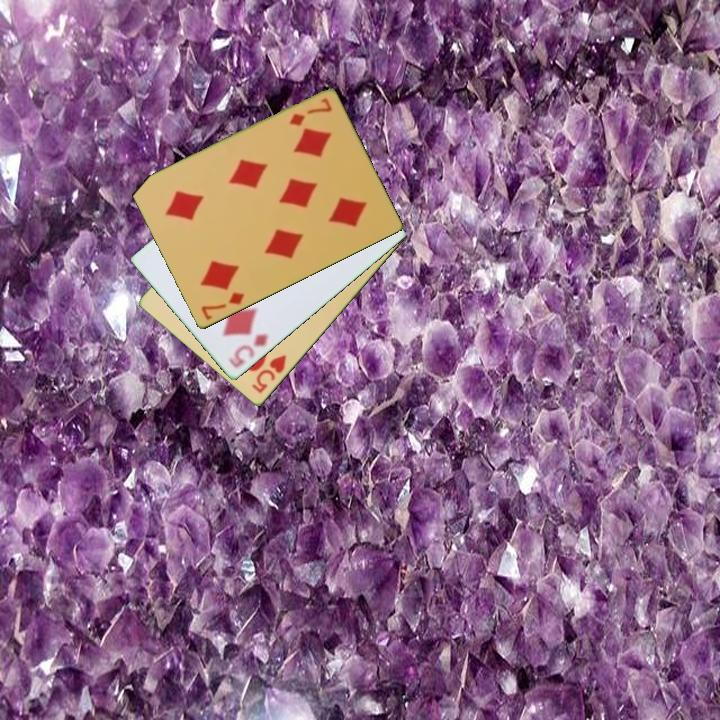5d: (224, 330, 271, 371)
5h: (249, 352, 289, 397)
7d: (285, 95, 335, 130), (197, 289, 248, 323)
